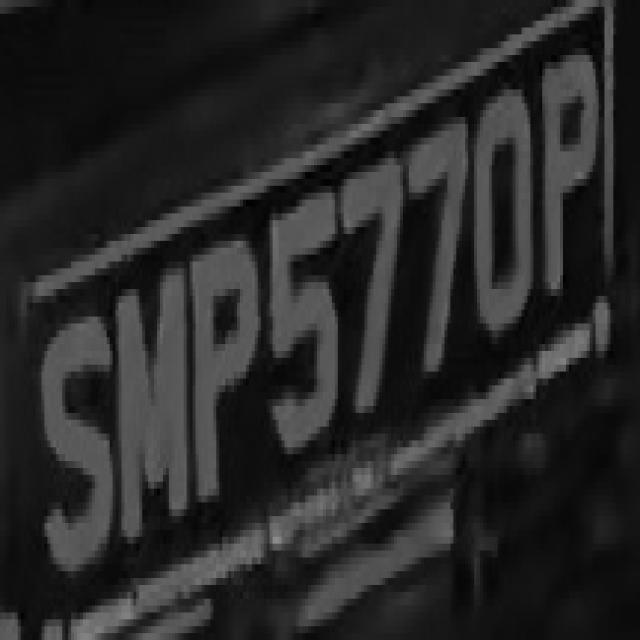0: (474, 83, 539, 351)
5: (264, 186, 349, 482)
7: (388, 124, 474, 399), (335, 158, 412, 434)
M: (110, 248, 196, 550)
P: (190, 220, 266, 530), (536, 41, 602, 310)
S: (36, 296, 116, 578)
